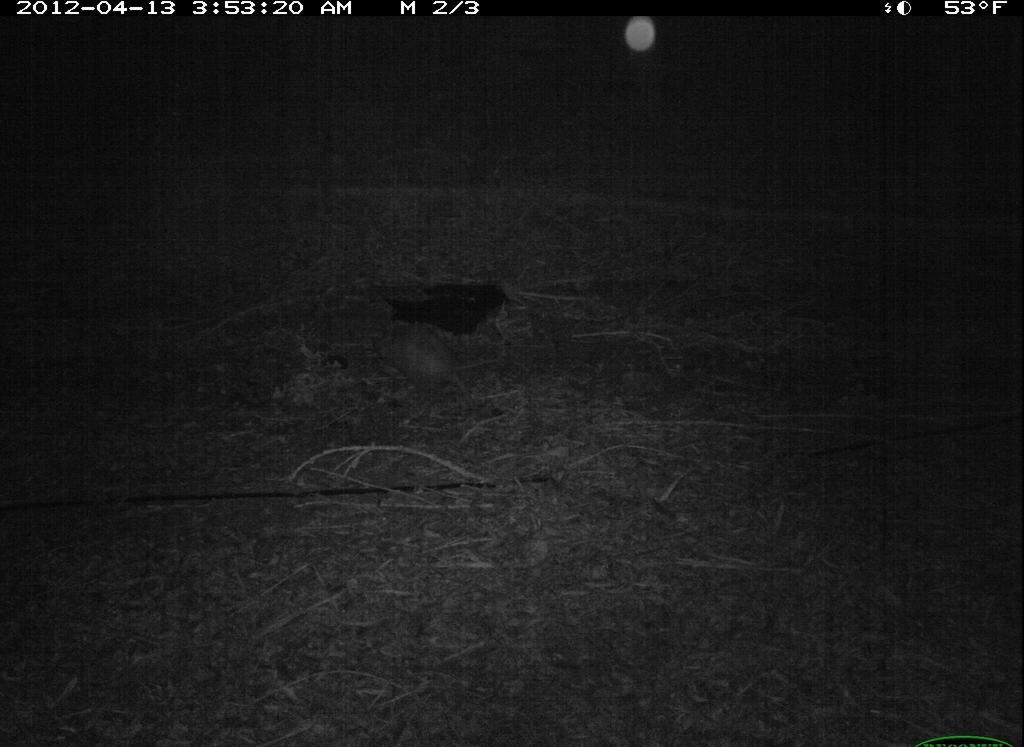opossum: (372, 324, 477, 407)
